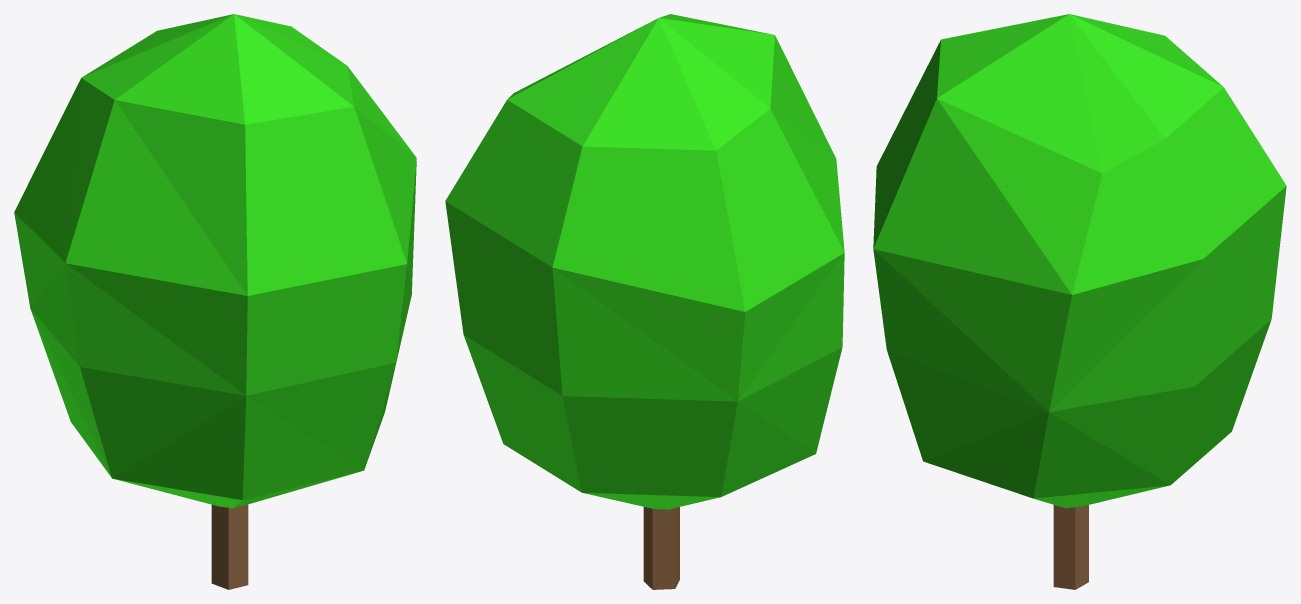
File: AppleTree1.fbx
The picture shows the model from 3 angles, left to right: view 1: azimuth 30°, elevation 25°; view 2: azimuth 150°, elevation 25°; view 3: azimuth 270°, elevation 25°; orthographic projection.
Visible parts, largest first — view 1: Cylinder; view 2: Cylinder; view 3: Cylinder.
Part boxes in pixels (x1,y1,x2,y2): Cylinder: (14,14,416,589); Cylinder: (445,14,844,589); Cylinder: (873,14,1286,589).
Size of the model in its own units: 340 by 510 by 335.
